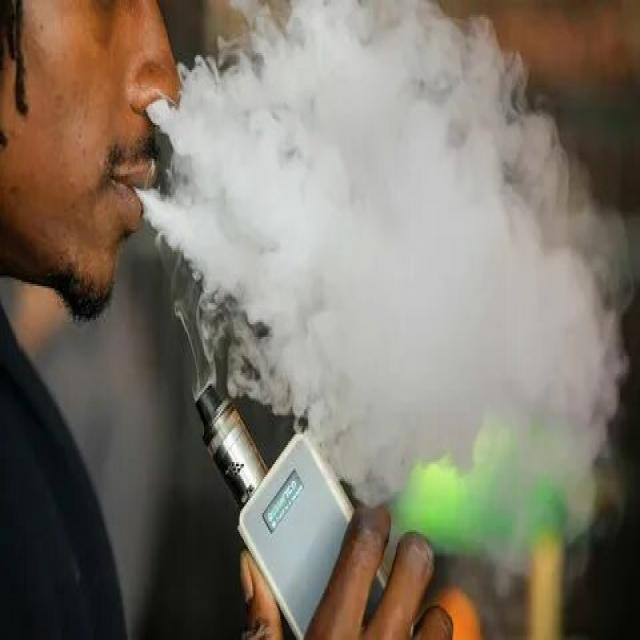cigarette: (188, 377, 375, 638)
